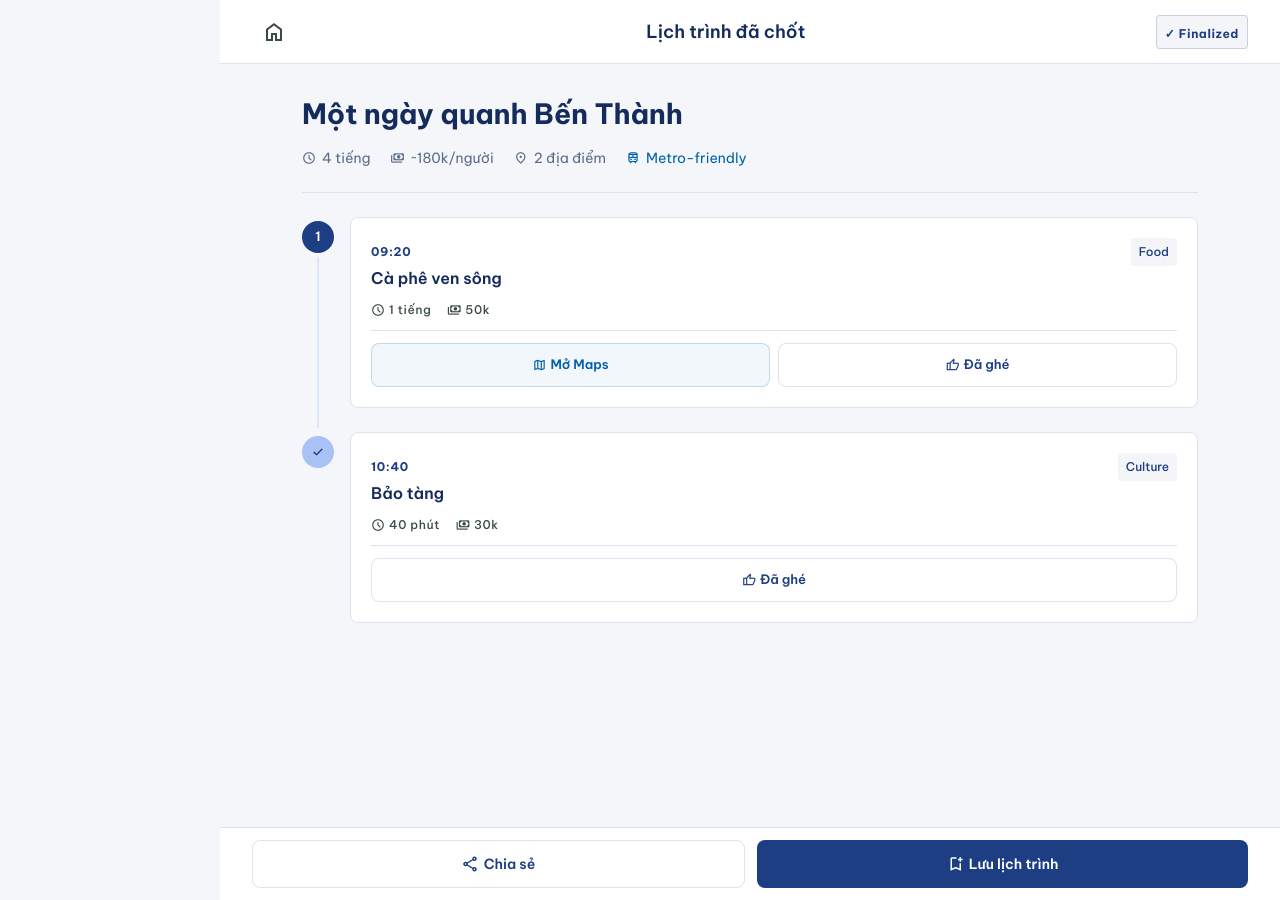
Test: USER-A5.3 Finalized save/share contracts › save HTTP 404 error retains baseline mapping
Click the button "Lưu lịch trình" at (1002, 864), box top-left (757, 840), bottom-right (1248, 888)
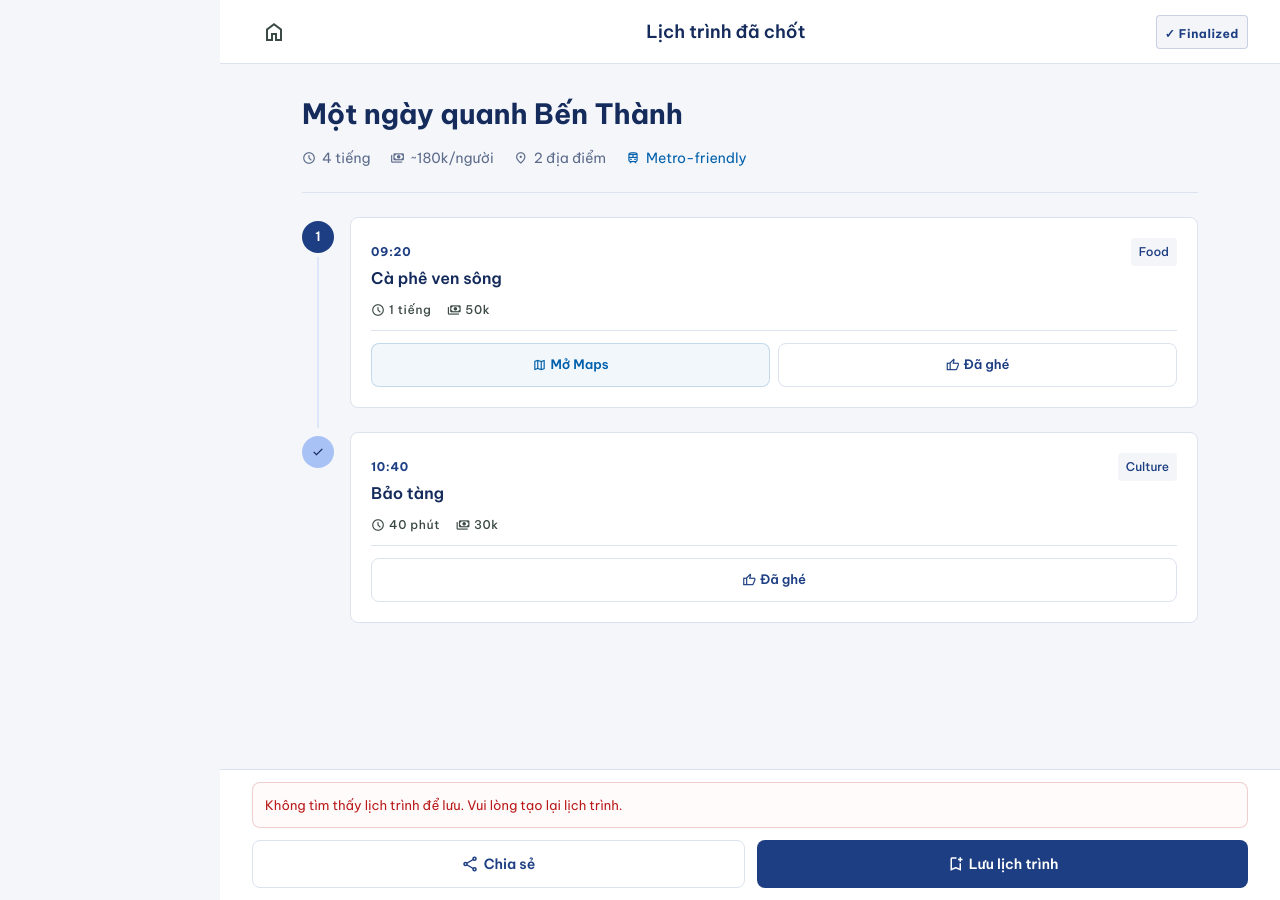
Check: the message shows "Không tìm thấy lịch trình", box top-left (265, 797), bottom-right (623, 813)
